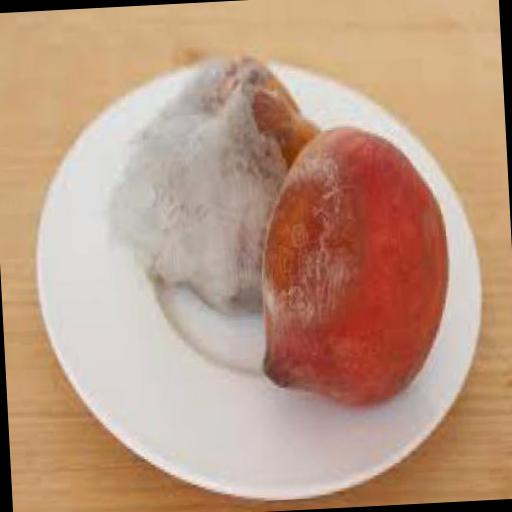biodegradable: (96, 52, 330, 320), (248, 119, 455, 414)
